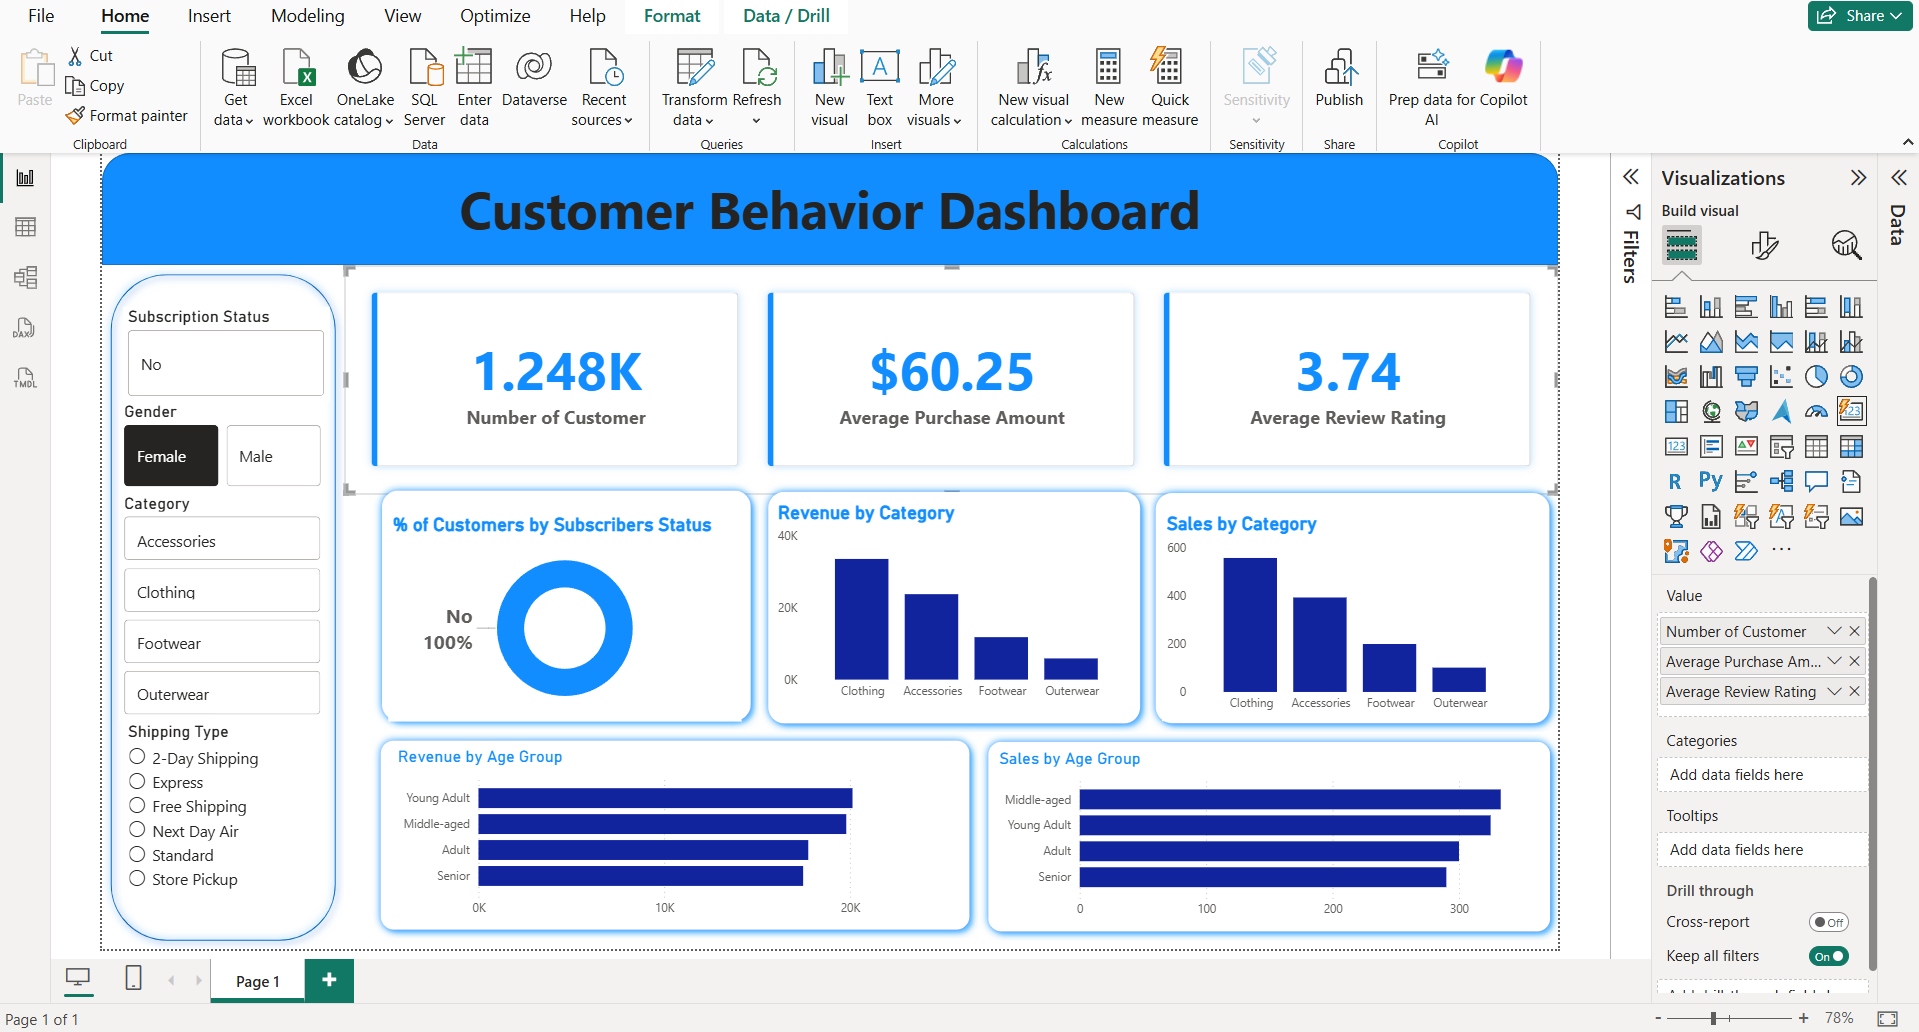

The dashboard page shown, as its layout file describes it:
{"tool":"powerbi","page":{"name":"Page 1","canvas":[1500,820],"ordinal":0},"visuals":[{"type":"cardVisual","fields":{"Data":["public customer.Number of Customer","public customer.Average Purchase Amount","public customer.Average Review Rating"]},"box":[250.3,115.5,1250,235.9],"z":0},{"type":"shape","box":[0,0,1500.3,115.3],"z":1000},{"type":"textbox","box":[0,16,1500.3,84.9],"z":2000},{"type":"shape","box":[279.2,338.6,397.9,255.1],"z":3000},{"type":"donutChart","title":"% of Customers by Subscribers Status","fields":{"Category":["public customer.subscription_status"],"Y":["CountNonNull(public customer.customer_id)"]},"box":[295.3,372.3,364.3,213.4],"z":4000},{"type":"shape","box":[1076.7,341.8,423.6,255.1],"z":5000},{"type":"shape","box":[677.2,340.2,401.2,256.7],"z":6000},{"type":"clusteredColumnChart","title":"Revenue by Category","fields":{"Y":["Sum(public customer.purchase_amount)"],"Category":["public customer.category"]},"box":[691.6,359.4,370.7,213.4],"z":7000},{"type":"clusteredColumnChart","title":"Sales by Category","fields":{"Category":["public customer.category"],"Y":["CountNonNull(public customer.customer_id)"]},"box":[1092,371.5,369.9,214.6],"z":8000},{"type":"shape","box":[0,115.3,249.8,704.5],"z":9000},{"type":"advancedSlicerVisual","fields":{"Values":["public customer.subscription_status"]},"box":[22.4,158.5,213,97.7],"z":10000},{"type":"advancedSlicerVisual","fields":{"Values":["public customer.gender"]},"box":[17.6,256.2,213,92.9],"z":11000},{"type":"advancedSlicerVisual","fields":{"Values":["public customer.category"]},"box":[17.6,350.7,213,235.4],"z":12000},{"type":"listSlicer","fields":{"Values":["public customer.shipping_type"]},"box":[22.5,585.7,213.4,234.3],"z":13000},{"type":"shape","box":[903.4,596.9,596.9,213.4],"z":14000},{"type":"shape","box":[278.6,595.6,624.5,213],"z":15000},{"type":"clusteredBarChart","title":"Revenue by Age Group","fields":{"Y":["Sum(public customer.purchase_amount)"],"Category":["public customer.age_group"]},"box":[299.4,611.7,581.2,184.1],"z":16000},{"type":"clusteredBarChart","title":"Sales by Age Group ","fields":{"Y":["CountNonNull(public customer.customer_id)"],"Category":["public customer.age_group"]},"box":[919.1,613.3,558.8,184.1],"z":17000}]}

Visuals, with their boxes on the page's 1500x820 design canvas (x1, y1, x2, y2). These are canvas units, not pixel positions in the 1919x1032 screenshot, which may show the page scaled, cropped or inside an application window:
cardVisual - public customer.Number of Customer x public customer.Average Purchase Amount: (left=250, top=116, right=1500, bottom=351)
shape: (left=0, top=0, right=1500, bottom=115)
textbox: (left=0, top=16, right=1500, bottom=101)
shape: (left=279, top=339, right=677, bottom=594)
"% of Customers by Subscribers Status" donutChart: (left=295, top=372, right=660, bottom=586)
shape: (left=1077, top=342, right=1500, bottom=597)
shape: (left=677, top=340, right=1078, bottom=597)
"Revenue by Category" clusteredColumnChart: (left=692, top=359, right=1062, bottom=573)
"Sales by Category" clusteredColumnChart: (left=1092, top=372, right=1462, bottom=586)
shape: (left=0, top=115, right=250, bottom=820)
advancedSlicerVisual - public customer.subscription_status: (left=22, top=158, right=235, bottom=256)
advancedSlicerVisual - public customer.gender: (left=18, top=256, right=231, bottom=349)
advancedSlicerVisual - public customer.category: (left=18, top=351, right=231, bottom=586)
listSlicer - public customer.shipping_type: (left=22, top=586, right=236, bottom=820)
shape: (left=903, top=597, right=1500, bottom=810)
shape: (left=279, top=596, right=903, bottom=809)
"Revenue by Age Group" clusteredBarChart: (left=299, top=612, right=881, bottom=796)
"Sales by Age Group " clusteredBarChart: (left=919, top=613, right=1478, bottom=797)
